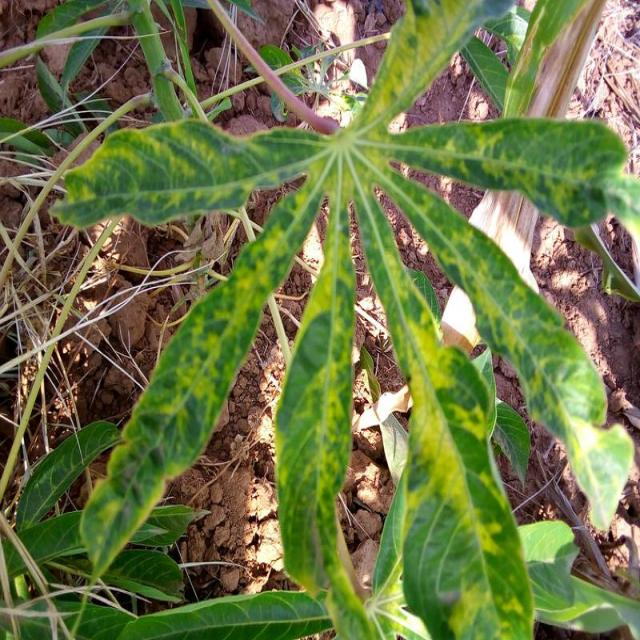cassava leaf: (50, 0, 638, 636), (48, 117, 330, 230)
